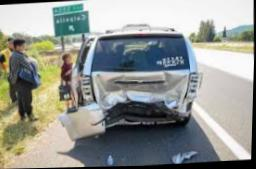Bumper: (64, 103, 185, 138)
Dickey: (92, 70, 190, 111)
Light: (79, 77, 95, 104), (185, 75, 202, 100)
